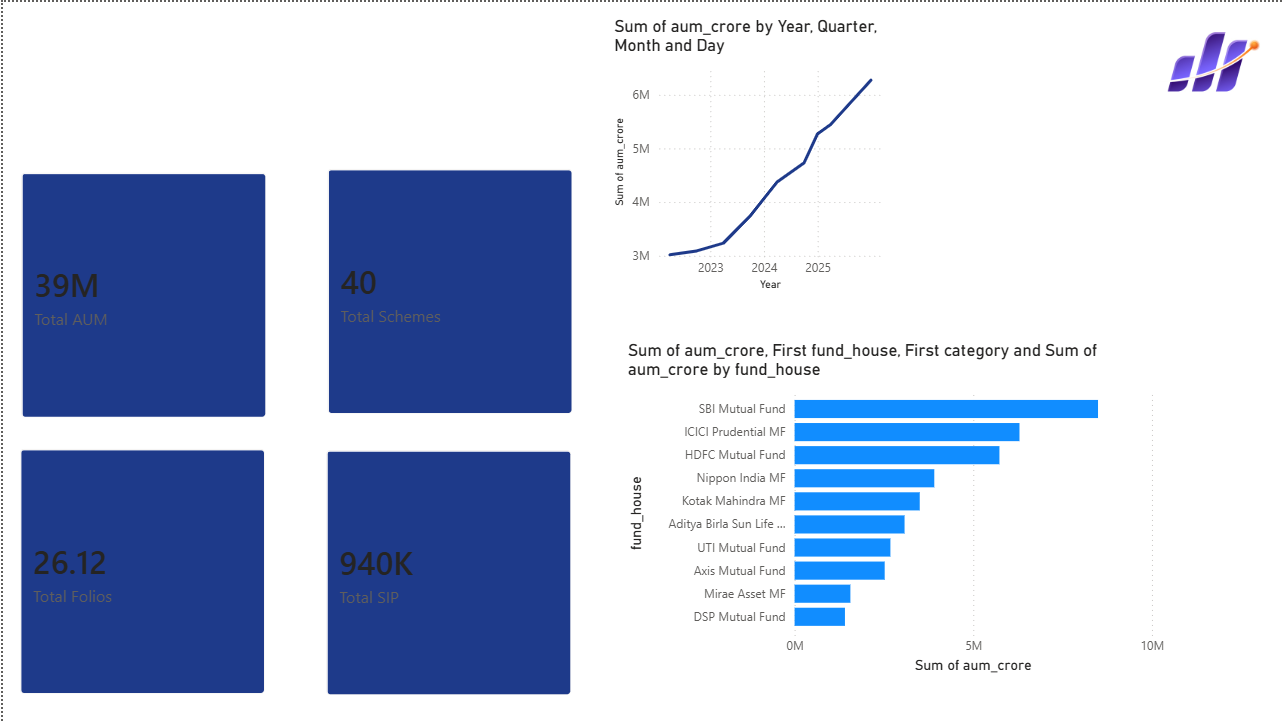

The dashboard page shown, as its layout file describes it:
{"tool":"powerbi","page":{"name":"Industry Overview","canvas":[1280,720],"ordinal":0},"visuals":[{"type":"cardVisual","fields":{"Data":["aum_by_fund_house_clean.Total AUM"]},"box":[1.2,154.3,279.9,279.9],"z":0},{"type":"cardVisual","fields":{"Data":["aum_by_fund_house_clean.Total Folios"]},"box":[0,430.4,279.9,279.9],"z":1000},{"type":"cardVisual","fields":{"Data":["aum_by_fund_house_clean.Total Schemes"]},"box":[307.3,150.5,279.9,279.9],"z":2000},{"type":"cardVisual","fields":{"Data":["aum_by_fund_house_clean.Total SIP"]},"box":[306,431.7,279.9,279.9],"z":3000},{"type":"lineChart","fields":{"Y":["Sum(aum_by_fund_house_clean.aum_crore)"],"Category":["aum_by_fund_house_clean.date.Variation.Date Hierarchy.Year","aum_by_fund_house_clean.date.Variation.Date Hierarchy.Quarter","aum_by_fund_house_clean.date.Variation.Date Hierarchy.Month","aum_by_fund_house_clean.date.Variation.Date Hierarchy.Day"]},"box":[606,14,280,280],"z":4000},{"type":"clusteredBarChart","fields":{"Category":["aum_by_fund_house_clean.fund_house"],"Y":["Sum(aum_by_fund_house_clean.aum_crore)"]},"box":[620.2,337.6,546.1,338.9],"z":5000},{"type":"image","box":[1139.5,0,140.6,120.7],"z":6000}]}

Visuals, with their boxes in screenshot pixels (x1, y1, x2, y2), scaled from the page's 1280x720 canvas onto the 1283x721 screenshot:
cardVisual - aum_by_fund_house_clean.Total AUM: box=[1, 155, 282, 435]
cardVisual - aum_by_fund_house_clean.Total Folios: box=[0, 431, 281, 711]
cardVisual - aum_by_fund_house_clean.Total Schemes: box=[308, 151, 589, 431]
cardVisual - aum_by_fund_house_clean.Total SIP: box=[307, 432, 587, 713]
lineChart - Sum(aum_by_fund_house_clean.aum_crore) x aum_by_fund_house_clean.date.Variation.Date Hierarchy.Year: box=[607, 14, 888, 294]
clusteredBarChart - aum_by_fund_house_clean.fund_house x Sum(aum_by_fund_house_clean.aum_crore): box=[622, 338, 1169, 677]
image: box=[1142, 0, 1282, 121]
